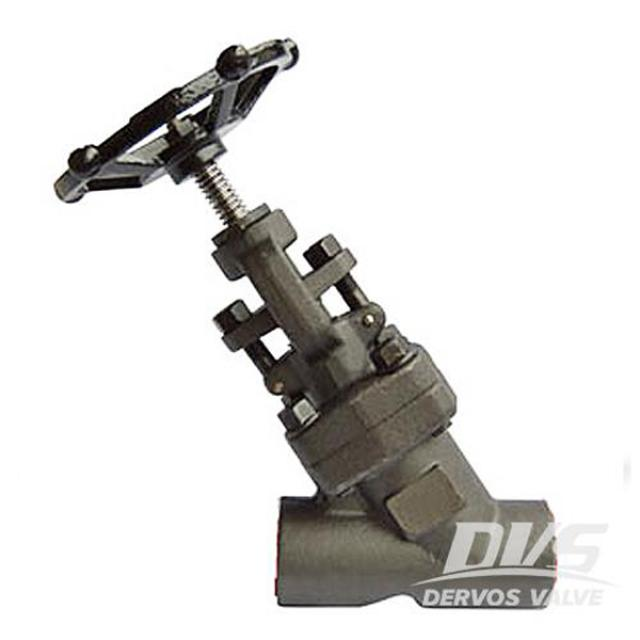Wheel Handle Valve Threaded: (54, 20, 307, 226)
